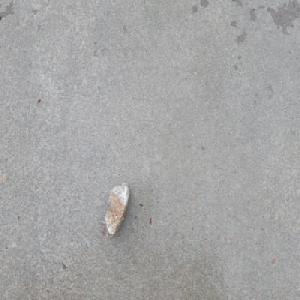Rock: (102, 181, 130, 237)
